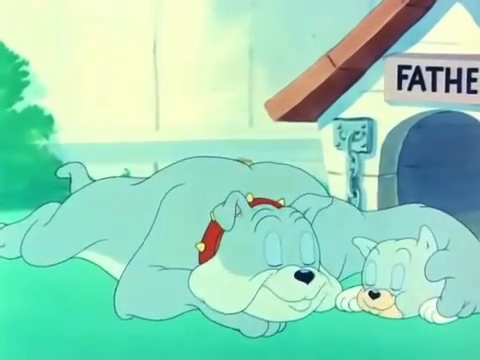spike: (187, 188, 344, 327)
